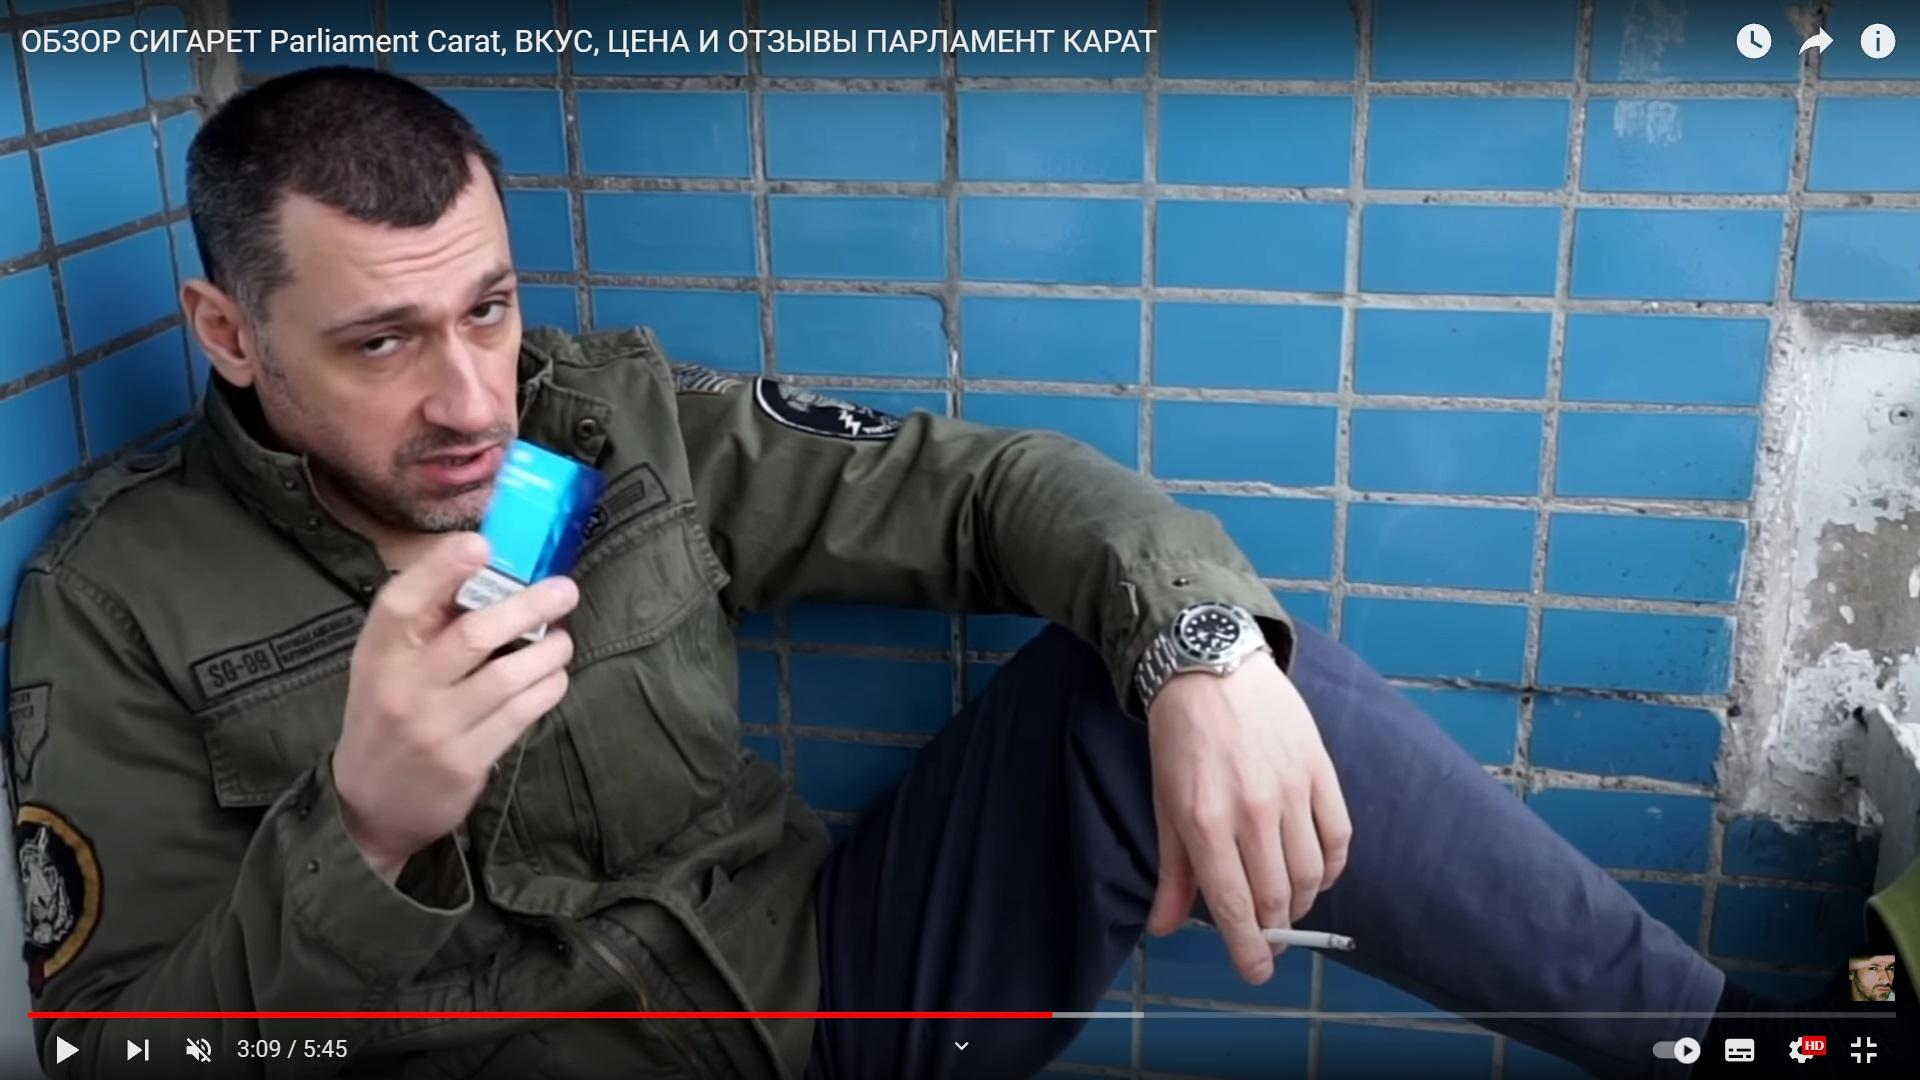cigarette: (1261, 928, 1357, 951)
